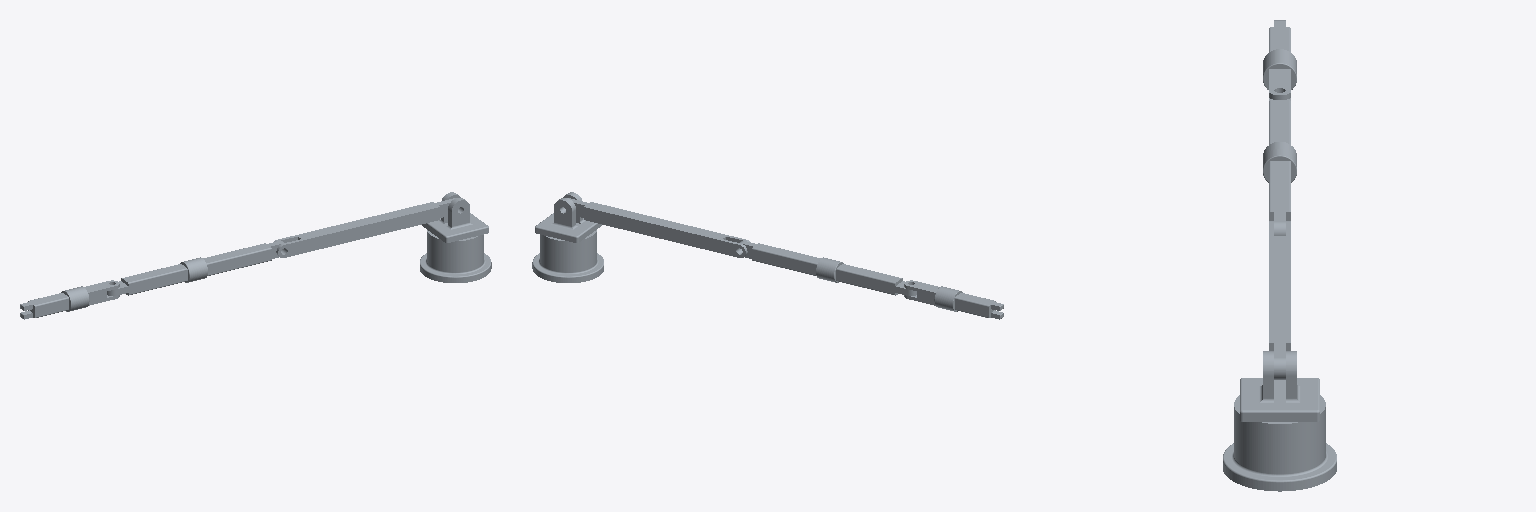
URDF robot description (Robot):
<?xml version="1.0" ?>
<robot name="Robot">
  <!--Generated by RobotCAD, a ROS Workbench for FreeCAD (https://github.com/drfenixion/freecad.robotcad)-->
  <link name="Base">
    <visual>
      <!--Base001/Base001.-->
      <origin rpy="0 0 0" xyz="0.0 0.0 0.0"/>
      <geometry>
        <mesh filename="package://robot_6dof_pkg/meshes/robot6dof_base_u2gila.dae"/>
      </geometry>
    </visual>
    <collision>
      <!--col__l_Base001__col_Base001__BoundCylinder/col_Base001__BoundCylinder.-->
      <origin rpy="0 0 0" xyz="0.0 0.0 0.03"/>
      <geometry>
        <cylinder length="0.06" radius="0.04"/>
      </geometry>
    </collision>
    <inertial>
      <mass value="0.8929442726286766"/>
      <origin rpy="0 0 0" xyz="0.0 0.0 0.127942"/>
      <inertia ixx="0.0006954933262556" ixy="0.0" ixz="0.0" iyy="0.0006954933262556" iyz="0.0" izz="0.0008079258509737"/>
    </inertial>
  </link>
  <link name="link_1">
    <visual>
      <!--link_007/link_002.-->
      <origin rpy="0 0 0" xyz="0.0 0.0 -0.01"/>
      <geometry>
        <mesh filename="package://robot_6dof_pkg/meshes/robot6dof_link_1_svtsek.dae"/>
      </geometry>
    </visual>
    <collision>
      <!--col__l_link_007__col_link_002__BoundBox/col_link_002__BoundBox.-->
      <origin rpy="0 0 0" xyz="0.0 0.0 -0.004"/>
      <geometry>
        <box size="0.07 0.07 0.012"/>
      </geometry>
    </collision>
    <inertial>
      <mass value="0.185198956432301"/>
      <origin rpy="0 0 0" xyz="0.0 0.0 0.00188149"/>
      <inertia ixx="8.78351578489e-05" ixy="-1.7363e-12" ixz="1.3287e-12" iyy="8.59004775976e-05" iyz="0.0" izz="0.0001167934943717"/>
    </inertial>
  </link>
  <link name="link_2">
    <visual>
      <!--link_008/link_003.-->
      <origin rpy="1.5707963267948963 0 0" xyz="0.14 0.0 0.005"/>
      <geometry>
        <mesh filename="package://robot_6dof_pkg/meshes/robot6dof_link_2_iwaxqt.dae"/>
      </geometry>
    </visual>
    <collision>
      <!--col__l_link_008__col_link_003__BoundBox/col_link_003__BoundBox.-->
      <origin rpy="1.5707963267948963 0 0" xyz="0.14 0.0 0.005"/>
      <geometry>
        <box size="0.3 0.020000000000000007 0.020000000000000004"/>
      </geometry>
    </collision>
    <inertial>
      <mass value="0.2742411500823461"/>
      <origin rpy="1.5707963267948963 0 0" xyz="0.14 0.0 0.005"/>
      <inertia ixx="1.83269246855e-05" ixy="0.0" ixz="-0.0" iyy="0.0015695776449462" iyz="0.0" izz="0.0015695334662995"/>
    </inertial>
  </link>
  <link name="link_3">
    <visual>
      <!--link_009/link_004.-->
      <origin rpy="1.5707963267948963 0 0" xyz="0.14 0.0 0.005"/>
      <geometry>
        <mesh filename="package://robot_6dof_pkg/meshes/robot6dof_link_3_gp2xoi.dae"/>
      </geometry>
    </visual>
    <collision>
      <!--col__l_link_009__col_link_004__BoundBox/col_link_004__BoundBox.-->
      <origin rpy="1.5707963267948963 0 0" xyz="0.07 0.0 0.005"/>
      <geometry>
        <box size="0.16 0.02 0.02"/>
      </geometry>
    </collision>
    <inertial>
      <mass value="0.1560609454761419"/>
      <origin rpy="1.5707963267948963 0 0" xyz="0.0790541 0.0 0.005"/>
      <inertia ixx="1.11820370516e-05" ixy="0.0" ixz="-0.0" iyy="0.0002734129639985" iyz="0.0" izz="0.0002730678602991"/>
    </inertial>
  </link>
  <link name="link_4">
    <visual>
      <!--link_010/link_005.-->
      <origin rpy="-1.5707963267948968 1.570796326794896 0" xyz="0.0 0.0 0.0"/>
      <geometry>
        <mesh filename="package://robot_6dof_pkg/meshes/robot6dof_link_4_jtxoaq.dae"/>
      </geometry>
    </visual>
    <collision>
      <!--col__l_link_010__col_link_005__BoundBox/col_link_005__BoundBox.-->
      <origin rpy="-1.5707963267948968 1.570796326794896 0" xyz="0.0 0.0 -0.07"/>
      <geometry>
        <box size="0.14 0.02 0.02"/>
      </geometry>
    </collision>
    <inertial>
      <mass value="0.141112503387208"/>
      <origin rpy="-1.5707963267948968 1.570796326794896 0" xyz="0.0 0.0 -0.0577605"/>
      <inertia ixx="1.04259707147e-05" ixy="0.0" ixz="0.0" iyy="0.0002069976321125" iyz="0.0" izz="0.0002066525284132"/>
    </inertial>
  </link>
  <link name="link_5">
    <visual>
      <!--link_011/link_006.-->
      <origin rpy="1.5707963267948963 0 0" xyz="0.025 0.0 -0.005"/>
      <geometry>
        <mesh filename="package://robot_6dof_pkg/meshes/robot6dof_link_5_tgt8pg.dae"/>
      </geometry>
    </visual>
    <collision>
      <!--col__l_link_011__col_link_006__BoundBox/col_link_006__BoundBox.-->
      <origin rpy="1.5707963267948963 0 0" xyz="0.03 0.0 -0.005"/>
      <geometry>
        <box size="0.08 0.02 0.02"/>
      </geometry>
    </collision>
    <inertial>
      <mass value="0.0733343794069711"/>
      <origin rpy="1.5707963267948963 0 0" xyz="0.0361902 0.0 -0.005"/>
      <inertia ixx="6.3585202146e-06" ixy="-0.0" ixz="-0.0" iyy="2.76532801871e-05" iyz="0.0" izz="2.78867052398e-05"/>
    </inertial>
  </link>
  <link name="link_6">
    <visual>
      <!--link_012/link_007.-->
      <origin rpy="-1.5707963267948963 1.5707963267948966 0" xyz="0.0 0.0 -0.035"/>
      <geometry>
        <mesh filename="package://robot_6dof_pkg/meshes/robot6dof_link_6_ocy7kk.dae"/>
      </geometry>
    </visual>
    <collision>
      <!--col__l_link_012__col_link_007__BoundBox/col_link_007__BoundBox.-->
      <origin rpy="-1.5707963267948963 1.5707963267948966 0" xyz="0.0 0.0 -0.0425"/>
      <geometry>
        <box size="0.08500000000000003 0.02 0.02"/>
      </geometry>
    </collision>
    <inertial>
      <mass value="0.091021278475148"/>
      <origin rpy="-1.5707963267948963 1.5707963267948966 0" xyz="0.0 0.0 -0.0345311"/>
      <inertia ixx="7.3665440941e-06" ixy="-0.0" ixz="-0.0" iyy="5.22260877389e-05" iyz="0.0" izz="5.24401938956e-05"/>
    </inertial>
  </link>
  <joint name="Base__to__link_1" type="continuous">
    <parent link="Base"/>
    <child link="link_1"/>
    <origin rpy="0 0 3.141592653589793" xyz="0.0 0.0 0.07"/>
    <axis xyz="0 0 1"/>
  </joint>
  <joint name="link_1__to__link_2" type="continuous">
    <parent link="link_1"/>
    <child link="link_2"/>
    <origin rpy="-1.5707963267948963 0 0" xyz="0.0 -0.005 0.0249785"/>
    <axis xyz="0 0 1"/>
  </joint>
  <joint name="link_2__to__link_3" type="continuous">
    <parent link="link_2"/>
    <child link="link_3"/>
    <origin rpy="3.1415926535897927 0 0" xyz="0.28 0.0 0.01"/>
    <axis xyz="0 0 1"/>
  </joint>
  <joint name="link_3__to__link_4" type="continuous">
    <parent link="link_3"/>
    <child link="link_4"/>
    <origin rpy="-1.5707963267948968 0 1.5707963267948966" xyz="0.14 0.0 0.005"/>
    <axis xyz="0 0 1"/>
  </joint>
  <joint name="link_4__to__link_5" type="continuous">
    <parent link="link_4"/>
    <child link="link_5"/>
    <origin rpy="0 1.5707963267948963 0" xyz="0.005 0.0 -0.13"/>
    <axis xyz="0 0 1"/>
  </joint>
  <joint name="link_5__to__link_6" type="continuous">
    <parent link="link_5"/>
    <child link="link_6"/>
    <origin rpy="0 -1.5707963267948961 0" xyz="0.06 0.0 -0.005"/>
    <axis xyz="0 0 1"/>
  </joint>
</robot>

--- What the picture shows (computed from the rendered views, not written in the file) ---
3 views of the same robot in one strip: view 1: azimuth 30°, elevation 25°; view 2: azimuth 150°, elevation 25°; view 3: azimuth 270°, elevation 25° (orthographic).
Robot: Robot — 7 links, 6 joints (6 continuous); root link Base; default pose: every joint at zero.
Visible links, largest first — view 1: link_2, Base, link_1, link_4, link_3, link_6, link_5; view 2: link_2, Base, link_1, link_4, link_3, link_6, link_5; view 3: Base, link_1, link_2, link_3, link_5, link_4, link_6.
Link boxes in pixels (x1,y1,x2,y2): link_2: (274, 198, 459, 257); Base: (420, 230, 491, 282); link_1: (422, 192, 488, 242); link_4: (107, 260, 198, 295); link_3: (192, 241, 285, 279); link_6: (20, 289, 79, 319); link_5: (73, 280, 119, 308); link_2: (564, 198, 749, 257); Base: (532, 230, 603, 282); link_1: (535, 192, 601, 242); link_4: (825, 260, 916, 295); link_3: (738, 241, 831, 279); link_6: (944, 289, 1003, 319); link_5: (904, 280, 950, 308); Base: (1223, 392, 1336, 491); link_1: (1240, 351, 1319, 421); link_2: (1269, 221, 1290, 379); link_3: (1263, 149, 1296, 235); link_5: (1263, 56, 1296, 99); link_4: (1263, 98, 1296, 159); link_6: (1263, 20, 1296, 66).
Size in the robot's own frame: 0.745 by 0.1 by 0.11 metres.
7 mesh visuals loaded from 7 distinct referenced files (7 Collada DAE).